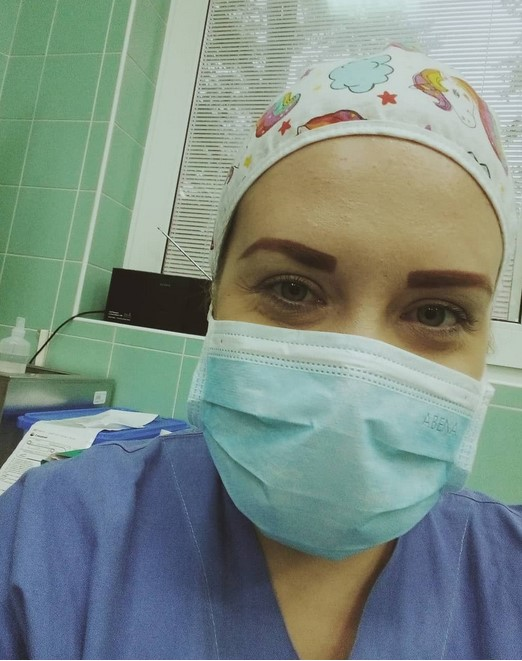face_with_mask: (196, 46, 521, 554)
